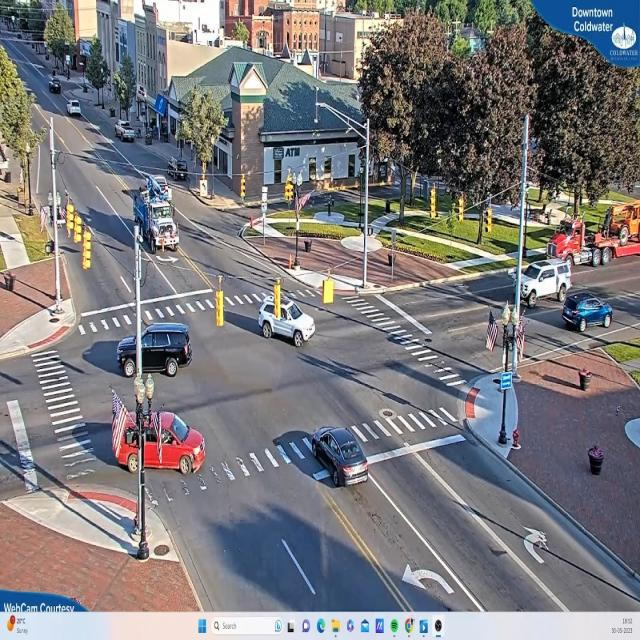car: (115, 393, 206, 478), (116, 322, 193, 378), (312, 426, 372, 488), (254, 296, 318, 346), (520, 261, 574, 306), (562, 292, 614, 334), (117, 121, 137, 145), (66, 100, 81, 116), (51, 78, 63, 94)
truck: (131, 174, 183, 258)
